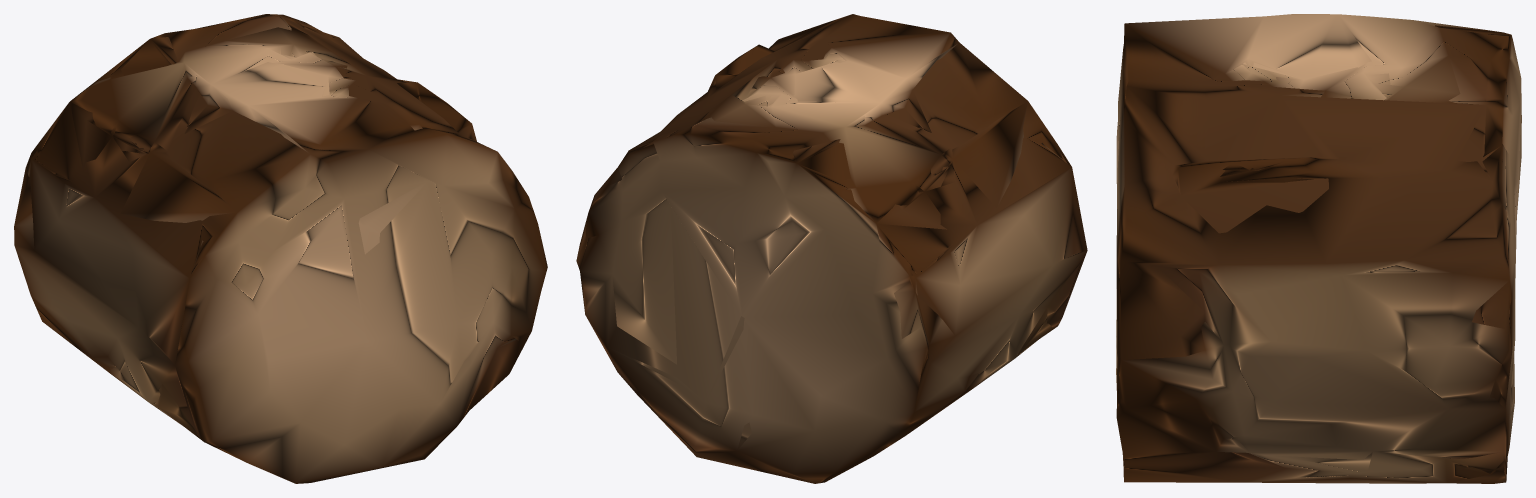
Rendered from gen3d-rolling-log-lod1.glb.
3 renders of one model, left to right at view 1: azimuth 30°, elevation 25°; view 2: azimuth 150°, elevation 25°; view 3: azimuth 270°, elevation 25°, orthographic. The views are drawn at different scales.
Parts seen in each view (by area): view 1: part_0; view 2: part_0; view 3: part_0.
Boxes of the visible parts, box(x1,y1,x2,y2) form: part_0: box(14, 14, 547, 483); part_0: box(576, 14, 1087, 483); part_0: box(1116, 14, 1521, 483).
Size of the model in its own units: 1.13 by 0.9985 by 0.9129.
